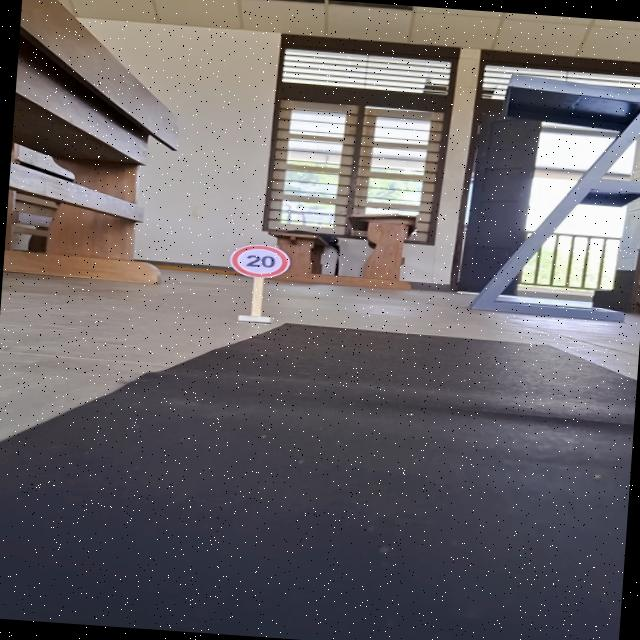Speed20: (226, 240, 294, 280)
